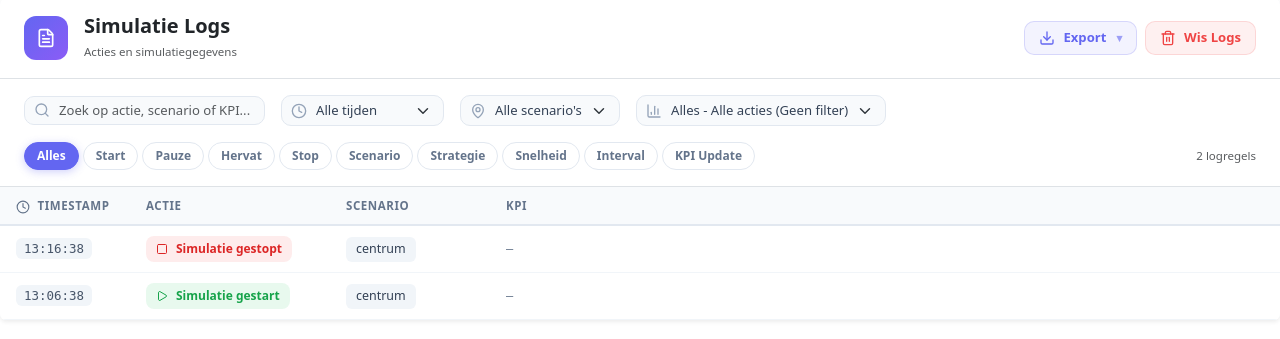
LogsViewer.vue › filters logs by recent time window
The image size is (1280, 339).
Step 1. Select "Laatste 5 min" in the dropdown named "Filter op tijd" → (362, 110), box x1=281 y1=95 x2=444 y2=126
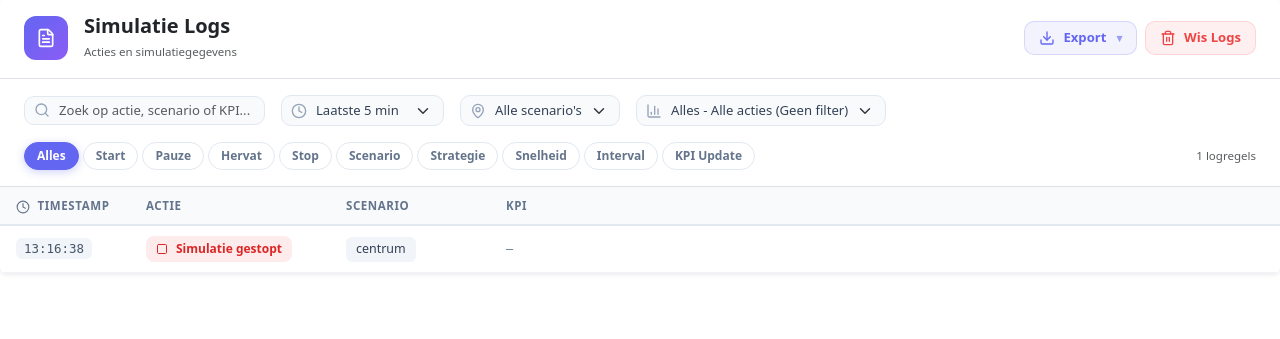
expect the element with class "action-badge" shows "gestopt": met, box x1=176 y1=240 x2=282 y2=257
expect the number of rows with class "log-row" is 1: met, box x1=0 y1=225 x2=1279 y2=273
